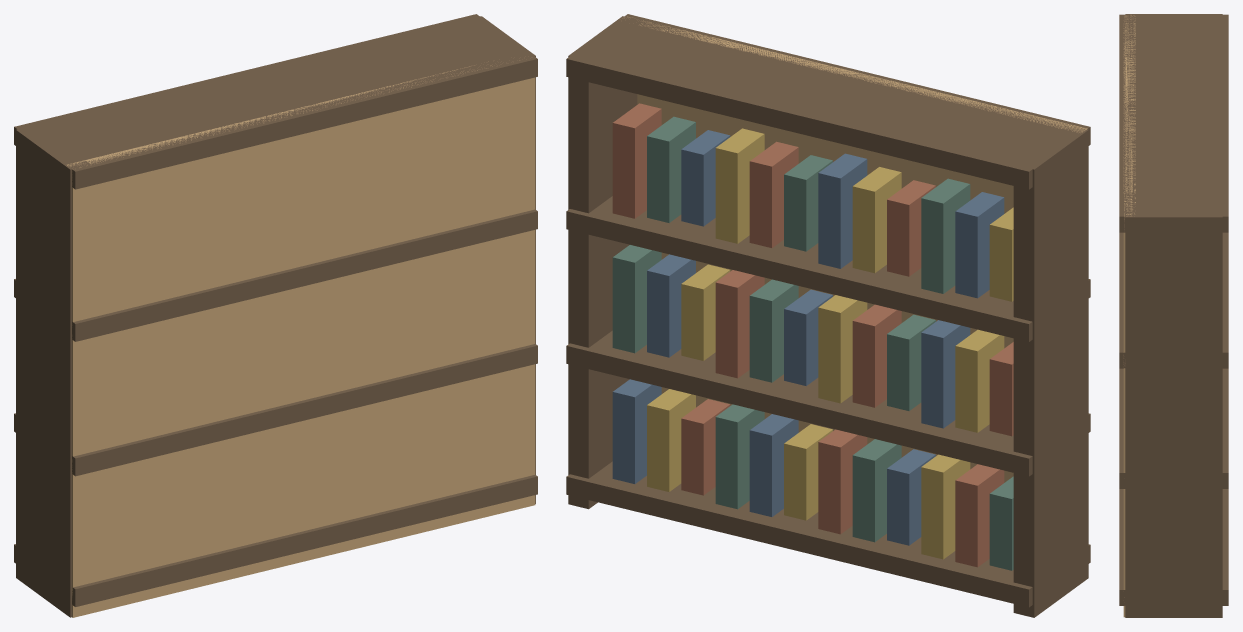
The picture shows the model from 3 angles, left to right: view 1: azimuth 30°, elevation 25°; view 2: azimuth 150°, elevation 25°; view 3: azimuth 270°, elevation 25°; orthographic projection. The views are drawn at different scales.
Size of the model in its own units: 2.72 by 2.5 by 0.62.
